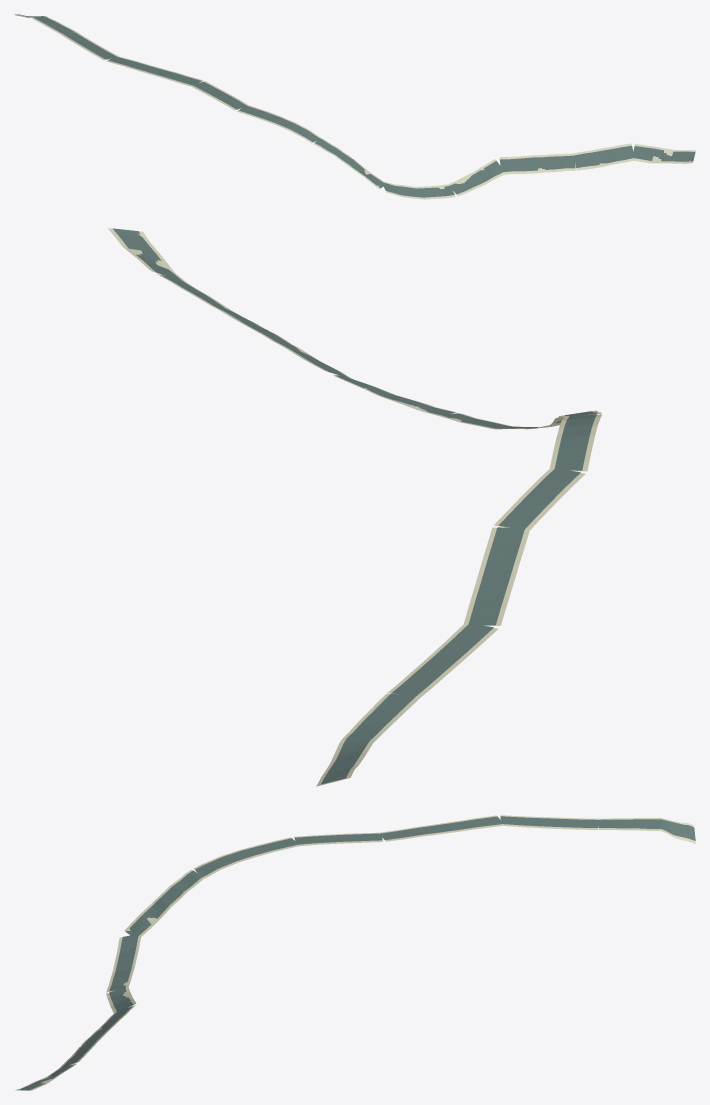
The model's file is Road_04.glb.
3 views of the same model, one above another, from view 1: azimuth 30°, elevation 25°; view 2: azimuth 150°, elevation 25°; view 3: azimuth 270°, elevation 25° (orthographic). The views are drawn at different scales.
Visible parts, largest first — view 1: Road_04; view 2: Road_04; view 3: Road_04.
Boxes of the visible parts, left/top/right/bottom form: Road_04: left=14, top=14, right=695, bottom=199; Road_04: left=108, top=228, right=601, bottom=786; Road_04: left=15, top=815, right=695, bottom=1090.
Bounding box in the file's own units: 117 × 17.58 × 145.
